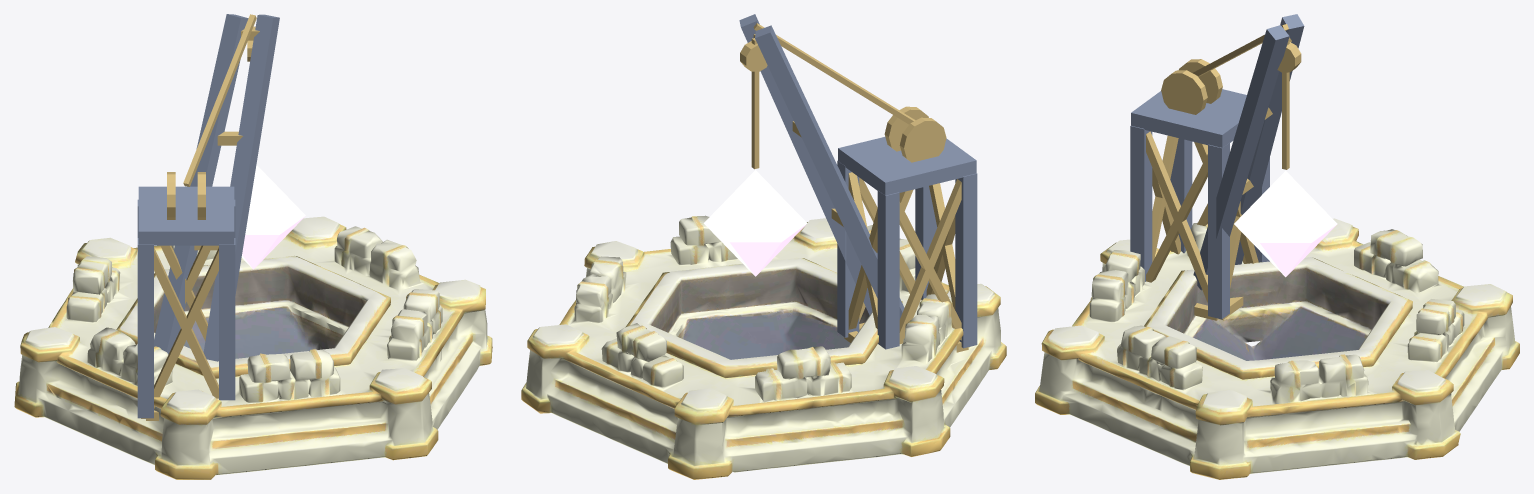
File: source.glb
The picture shows the model from 3 angles, left to right: view 1: azimuth 30°, elevation 25°; view 2: azimuth 150°, elevation 25°; view 3: azimuth 270°, elevation 25°; orthographic projection.
Parts seen in each view (by area): view 1: tripo_node_1e7a6f32-8326-45ce-a396-c6e154b55146, mine_crane_slate, mine_crane_gold, deep_gem; view 2: tripo_node_1e7a6f32-8326-45ce-a396-c6e154b55146, mine_crane_slate, mine_crane_gold, deep_gem; view 3: tripo_node_1e7a6f32-8326-45ce-a396-c6e154b55146, mine_crane_slate, mine_crane_gold, deep_gem.
Boxes of the visible parts, x1,y1,x2,y2 form: tripo_node_1e7a6f32-8326-45ce-a396-c6e154b55146: (14, 216, 492, 479); mine_crane_slate: (137, 14, 279, 418); mine_crane_gold: (141, 14, 259, 420); deep_gem: (229, 165, 305, 269); tripo_node_1e7a6f32-8326-45ce-a396-c6e154b55146: (521, 215, 1006, 479); mine_crane_slate: (739, 14, 977, 349); mine_crane_gold: (740, 23, 969, 352); deep_gem: (703, 170, 807, 276); tripo_node_1e7a6f32-8326-45ce-a396-c6e154b55146: (1035, 218, 1519, 479); mine_crane_slate: (1130, 14, 1304, 319); mine_crane_gold: (1146, 24, 1301, 320); deep_gem: (1234, 170, 1337, 277).
Bounding box in the file's own units: 1.56 × 1.4 × 1.58.
Materials: 4 (1 with a texture image).
